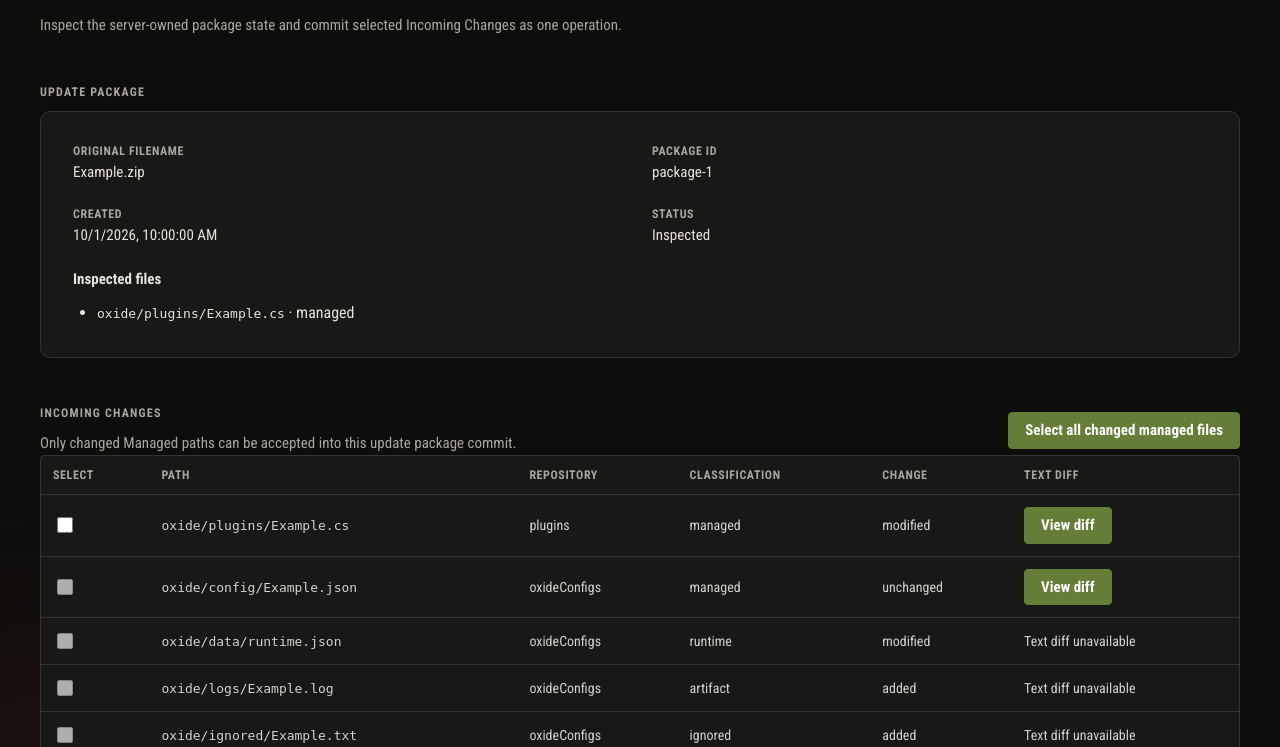
Plugins Updates › uses comparison heads for a text diff and handles added-file null workspace text
This screenshot has width=1280, height=747.
What coordinates should you click on to do the following:
click the 1st button "View diff"
I would click on:
 (1068, 525)
Its box is [1024, 507, 1112, 544].
(page scrolled)
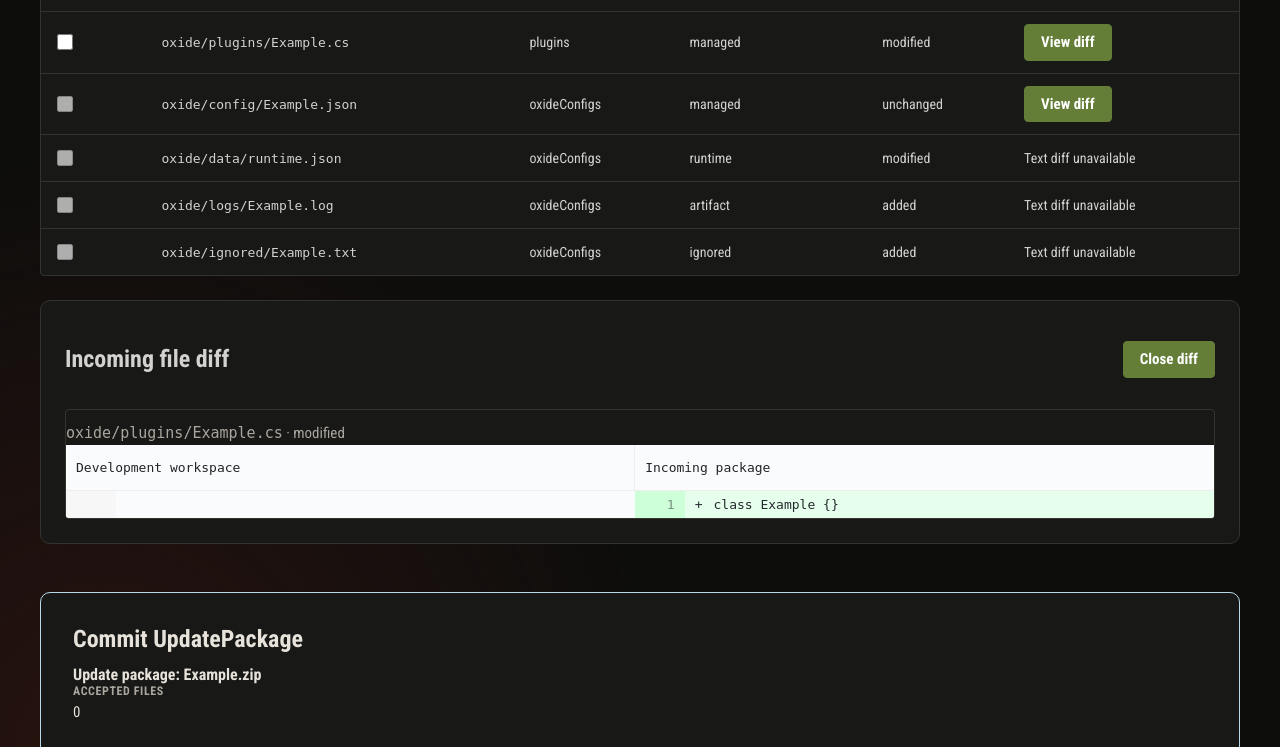
Now the heading "Incoming file diff" is shown, box [65, 345, 229, 373]
